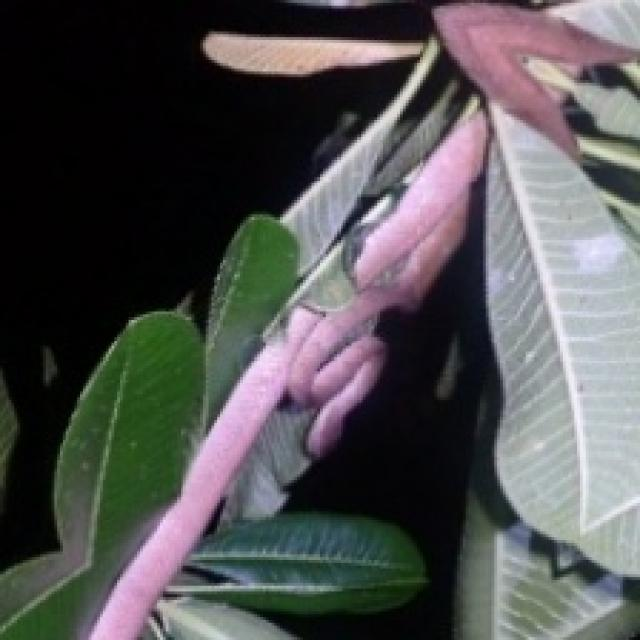philippine cat snake: (89, 111, 486, 637), (434, 6, 634, 151)
